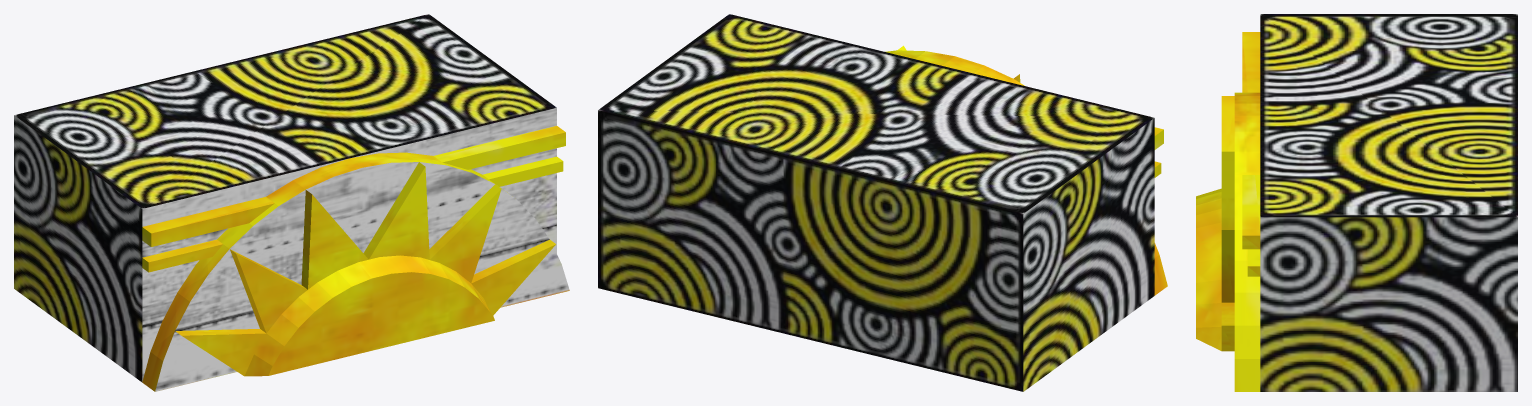
Rendered from deco_block.obj.
The picture shows the model from 3 angles, left to right: view 1: azimuth 30°, elevation 25°; view 2: azimuth 150°, elevation 25°; view 3: azimuth 270°, elevation 25°; orthographic projection. The views are drawn at different scales.
Visible parts, largest first — view 1: Mesh1 Model; view 2: Mesh1 Model; view 3: Mesh1 Model.
Boxes of the visible parts, left/top/right/bottom form: Mesh1 Model: left=14, top=14, right=569, bottom=391; Mesh1 Model: left=598, top=14, right=1167, bottom=391; Mesh1 Model: left=1196, top=14, right=1517, bottom=391.
Bounding box in the file's own units: 2.5 × 1 × 1.67.
